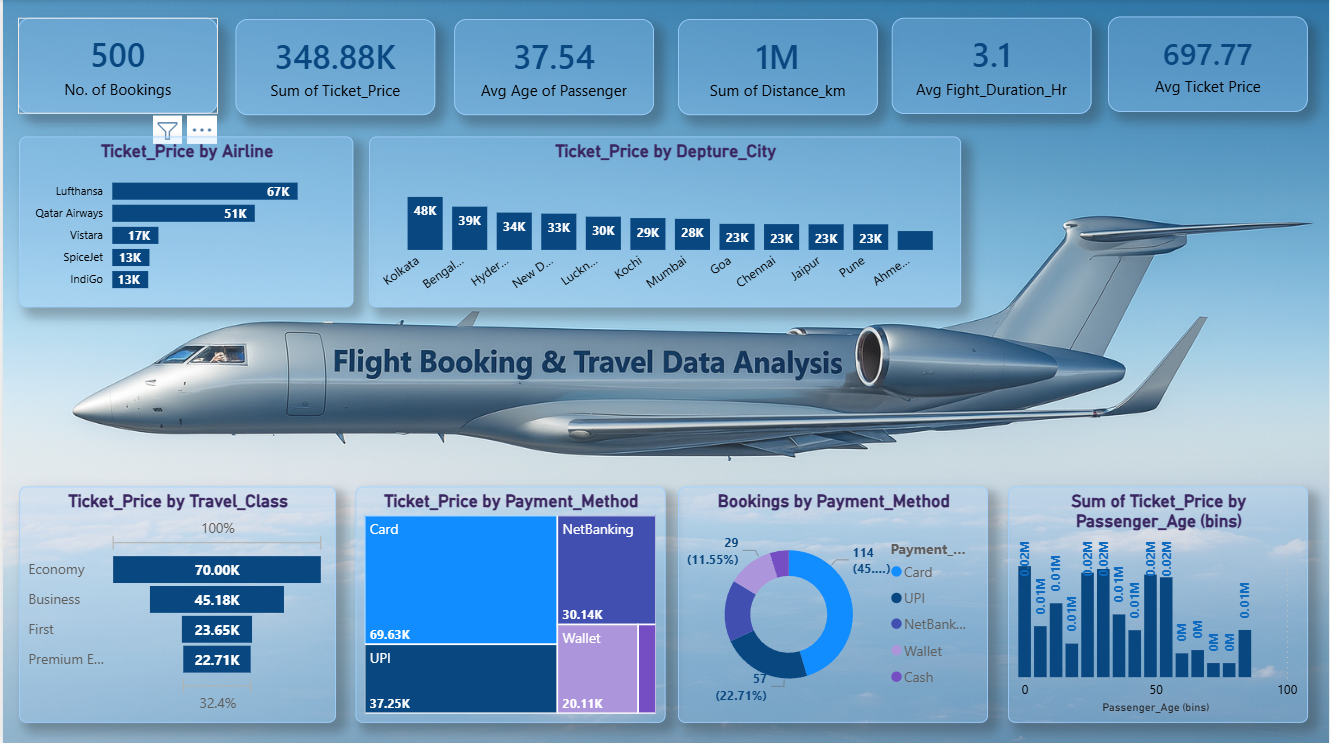

Layout of this report page (visuals, bound fields, positions):
{"tool":"powerbi","page":{"name":"Page 1","canvas":[1280,720],"ordinal":0},"visuals":[{"type":"cardVisual","fields":{"Data":["Count(flight_bookings.Booking_ID)"]},"box":[14.5,18.1,193,92.9],"z":1000},{"type":"cardVisual","fields":{"Data":["Sum(flight_bookings.Ticket_Price)"]},"box":[224.4,19.3,193,92.9],"z":2000},{"type":"cardVisual","fields":{"Data":["Avg(flight_bookings.Passenger_Age)"]},"box":[435.5,19.3,193,92.9],"z":3000},{"type":"cardVisual","fields":{"Data":["Sum(flight_bookings.Distance_km)"]},"box":[651.5,19.3,193,92.9],"z":4000},{"type":"cardVisual","fields":{"Data":["Avg(flight_bookings.Fight_Duration_hr)"]},"box":[857.8,18.1,193,92.9],"z":5000},{"type":"cardVisual","fields":{"Data":["flight_bookings.Avg Ticket Price"]},"box":[1066.5,16.9,193,92],"z":6000},{"type":"clusteredBarChart","title":"Ticket_Price by Airline","fields":{"Category":["flight_bookings.Airline"],"Y":["Sum(flight_bookings.Ticket_Price)"]},"box":[15.1,133.1,322.5,164.7],"z":7000},{"type":"columnChart","title":"Ticket_Price by Depture_City","fields":{"Category":["flight_bookings.Depture_City"],"Y":["Sum(flight_bookings.Ticket_Price)"]},"box":[354,133.1,570.8,164.7],"z":8000},{"type":"funnel","title":"Ticket_Price by Travel_Class","fields":{"Category":["flight_bookings.Travel_Class"],"Y":["Sum(flight_bookings.Ticket_Price)"]},"box":[15.7,470.5,305.2,228],"z":9000},{"type":"treemap","fields":{"Group":["flight_bookings.Payment_Method"],"Values":["Sum(flight_bookings.Ticket_Price)"]},"box":[340.2,470.5,299.2,228],"z":10000},{"type":"columnChart","fields":{"Y":["Sum(flight_bookings.Ticket_Price)"],"Category":["flight_bookings.Passenger_Age (bins)"]},"box":[970,470.5,289.5,228],"z":11000},{"type":"donutChart","fields":{"Category":["flight_bookings.Payment_Method"],"Y":["CountNonNull(flight_bookings.Booking_ID)"]},"box":[651.5,470.5,299.2,228],"z":12000}]}

Visuals, with their boxes in screenshot pixels (x1, y1, x2, y2), scaled from the page's 1280x720 canvas onto the 1330x743 screenshot:
cardVisual - Count(flight_bookings.Booking_ID): <region>15, 19, 216, 115</region>
cardVisual - Sum(flight_bookings.Ticket_Price): <region>233, 20, 434, 116</region>
cardVisual - Avg(flight_bookings.Passenger_Age): <region>453, 20, 653, 116</region>
cardVisual - Sum(flight_bookings.Distance_km): <region>677, 20, 877, 116</region>
cardVisual - Avg(flight_bookings.Fight_Duration_hr): <region>891, 19, 1092, 115</region>
cardVisual - flight_bookings.Avg Ticket Price: <region>1108, 17, 1309, 112</region>
"Ticket_Price by Airline" clusteredBarChart: <region>16, 137, 351, 307</region>
"Ticket_Price by Depture_City" columnChart: <region>368, 137, 961, 307</region>
"Ticket_Price by Travel_Class" funnel: <region>16, 486, 333, 721</region>
treemap - flight_bookings.Payment_Method x Sum(flight_bookings.Ticket_Price): <region>353, 486, 664, 721</region>
columnChart - Sum(flight_bookings.Ticket_Price) x flight_bookings.Passenger_Age (bins): <region>1008, 486, 1309, 721</region>
donutChart - flight_bookings.Payment_Method x CountNonNull(flight_bookings.Booking_ID): <region>677, 486, 988, 721</region>
